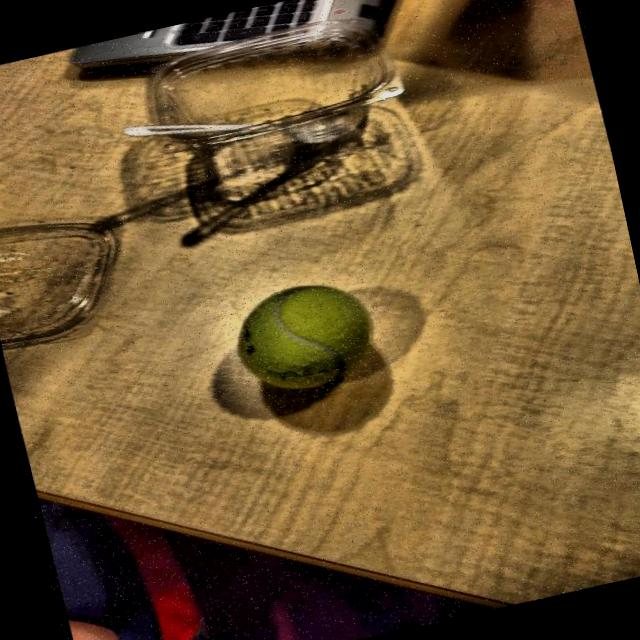tennis-ball: (215, 266, 398, 414)
